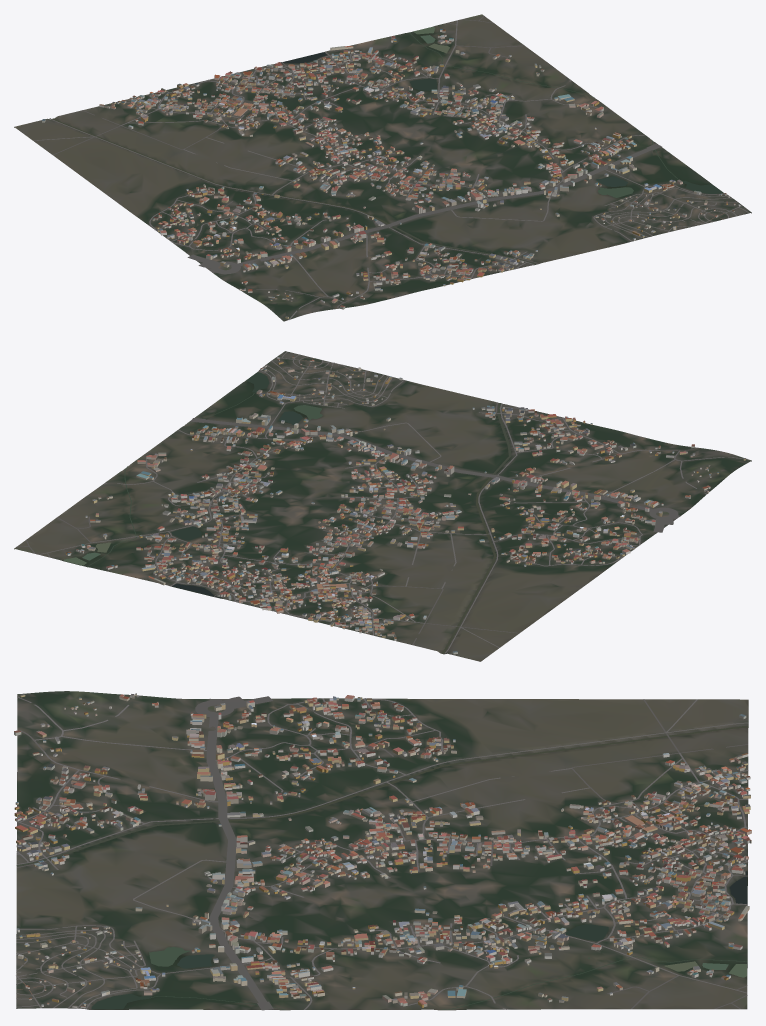
The picture shows the model from 3 angles, top to bottom: view 1: azimuth 30°, elevation 25°; view 2: azimuth 150°, elevation 25°; view 3: azimuth 270°, elevation 25°; orthographic projection. The views are drawn at different scales.
Visible parts, largest first — view 1: ground, buildings, roads, water; view 2: ground, buildings, roads, water; view 3: ground, buildings, roads, water.
Boxes of the visible parts, left/top/right/bottom form: ground: left=14, top=14, right=751, bottom=321; buildings: left=42, top=29, right=740, bottom=318; roads: left=33, top=16, right=749, bottom=319; water: left=52, top=27, right=723, bottom=264; ground: left=14, top=351, right=751, bottom=661; buildings: left=65, top=356, right=745, bottom=654; roads: left=16, top=351, right=746, bottom=653; water: left=64, top=372, right=511, bottom=653; ground: left=16, top=691, right=748, bottom=1010; buildings: left=14, top=693, right=751, bottom=1008; roads: left=16, top=695, right=748, bottom=1010; water: left=16, top=726, right=748, bottom=1009.
Size of the model in its own units: 1412 by 27.4 by 1415.
